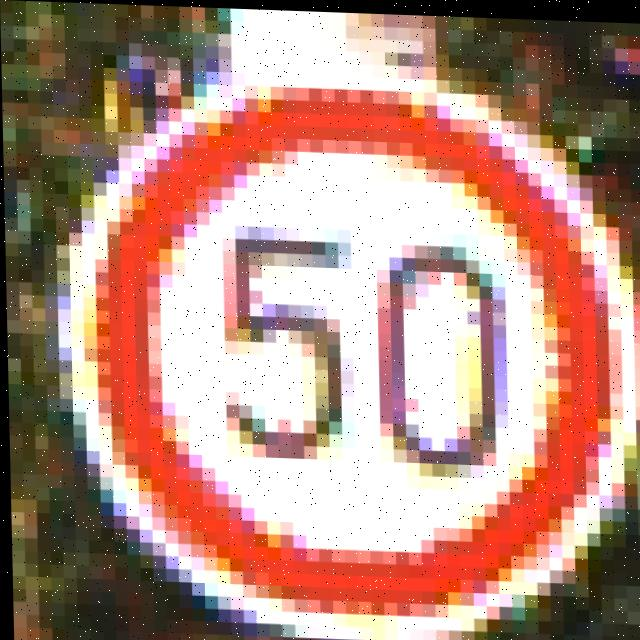speed_limit_50: (62, 59, 612, 639)
